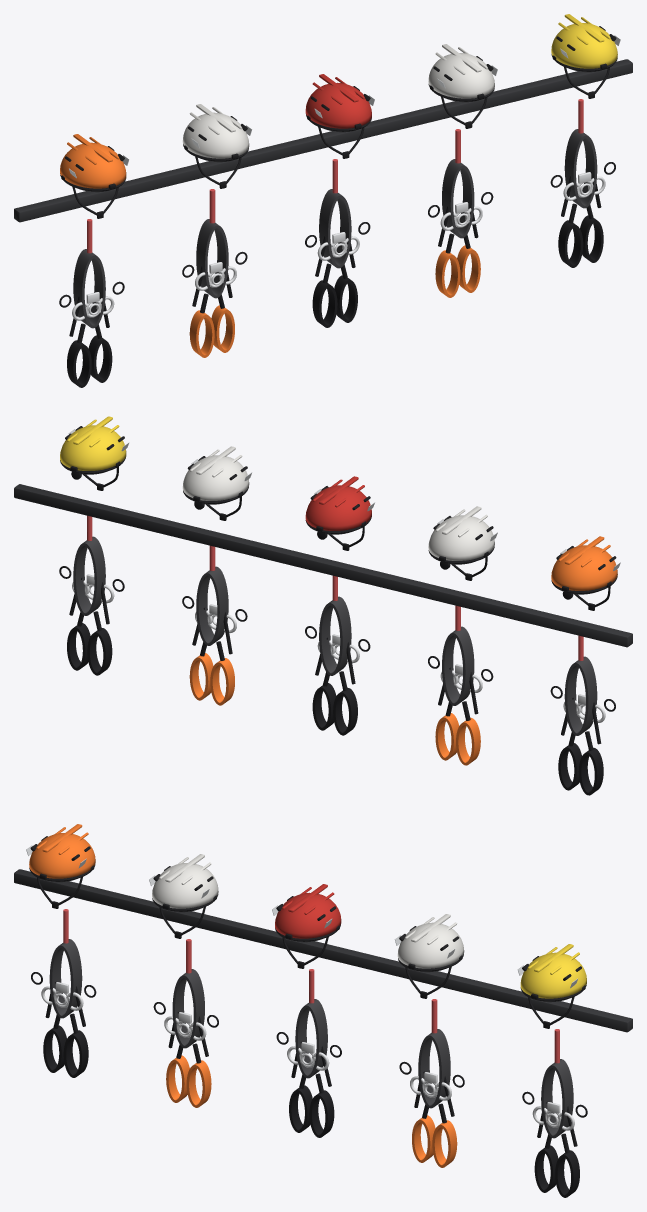
The model's file is caschi-imbraghi.glb.
3 renders of one model, top to bottom at view 1: azimuth 30°, elevation 25°; view 2: azimuth 150°, elevation 25°; view 3: azimuth 330°, elevation 25°, orthographic.
Parts seen in each view (by area): view 1: imbraghi, caschi_arancio, rastrelliera, caschi_bianchi, caschi_dettagli, moschettoni; view 2: imbraghi, rastrelliera, caschi_arancio, caschi_bianchi, caschi_dettagli, moschettoni; view 3: imbraghi, caschi_arancio, rastrelliera, caschi_bianchi, caschi_dettagli, moschettoni.
Boxes of the visible parts, x1,y1,x2,y2 form: imbraghi: (67, 99, 603, 387); caschi_arancio: (60, 14, 620, 218); rastrelliera: (14, 59, 632, 222); caschi_bianchi: (182, 44, 497, 188); caschi_dettagli: (59, 162, 615, 336); moschettoni: (72, 176, 605, 320); imbraghi: (67, 515, 603, 795); rastrelliera: (14, 484, 632, 647); caschi_arancio: (60, 416, 620, 610); caschi_bianchi: (182, 446, 497, 580); caschi_dettagli: (59, 566, 615, 744); moschettoni: (72, 580, 605, 722); imbraghi: (43, 909, 579, 1197); caschi_arancio: (26, 824, 586, 1028); rastrelliera: (14, 869, 632, 1032); caschi_bianchi: (149, 854, 464, 998); caschi_dettagli: (31, 972, 587, 1146); moschettoni: (41, 986, 574, 1130).
Bounding box in the file's own units: 3 × 1.11 × 0.338.
